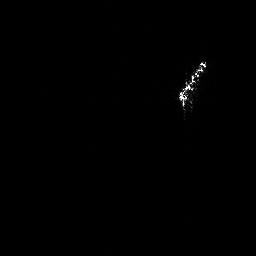ship: (174, 55, 210, 117)
